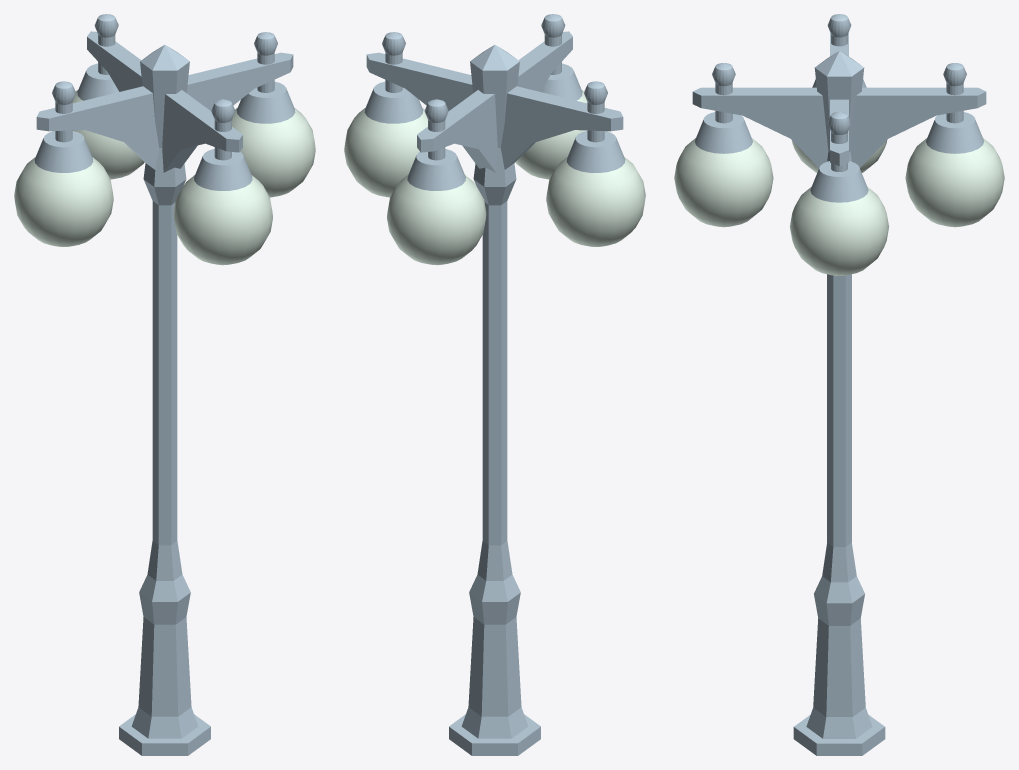
Rendered from streetlight_13.fbx.
The picture shows the model from 3 angles, left to right: view 1: azimuth 30°, elevation 25°; view 2: azimuth 150°, elevation 25°; view 3: azimuth 270°, elevation 25°; orthographic projection.
Visible parts, largest first — view 1: pSphere20 (×4), streetlight_13, pPlane20, pPlane17, pPlane19, pPlane18; view 2: pSphere20 (×4), streetlight_13, pPlane20, pPlane18, pPlane19, pPlane17; view 3: pSphere20 (×4), streetlight_13, pPlane17, pPlane18, pPlane19.
Part boxes in pixels (x1,y1,x2,y2): pSphere20 (×4): (14,14,315,265); streetlight_13: (119,45,210,755); pPlane20: (36,86,158,169); pPlane17: (162,90,242,172); pPlane19: (186,52,293,110); pPlane18: (87,31,142,91); pSphere20 (×4): (344,14,645,265); streetlight_13: (449,45,540,755); pPlane20: (501,86,623,169); pPlane18: (417,90,497,172); pPlane19: (366,52,473,110); pPlane17: (517,31,572,91); pSphere20 (×4): (674,14,1004,275); streetlight_13: (793,51,885,755); pPlane17: (692,87,828,167); pPlane18: (850,87,986,167); pPlane19: (830,99,848,165).
Size of the model in its own units: 2.95 by 6.78 by 2.95.
